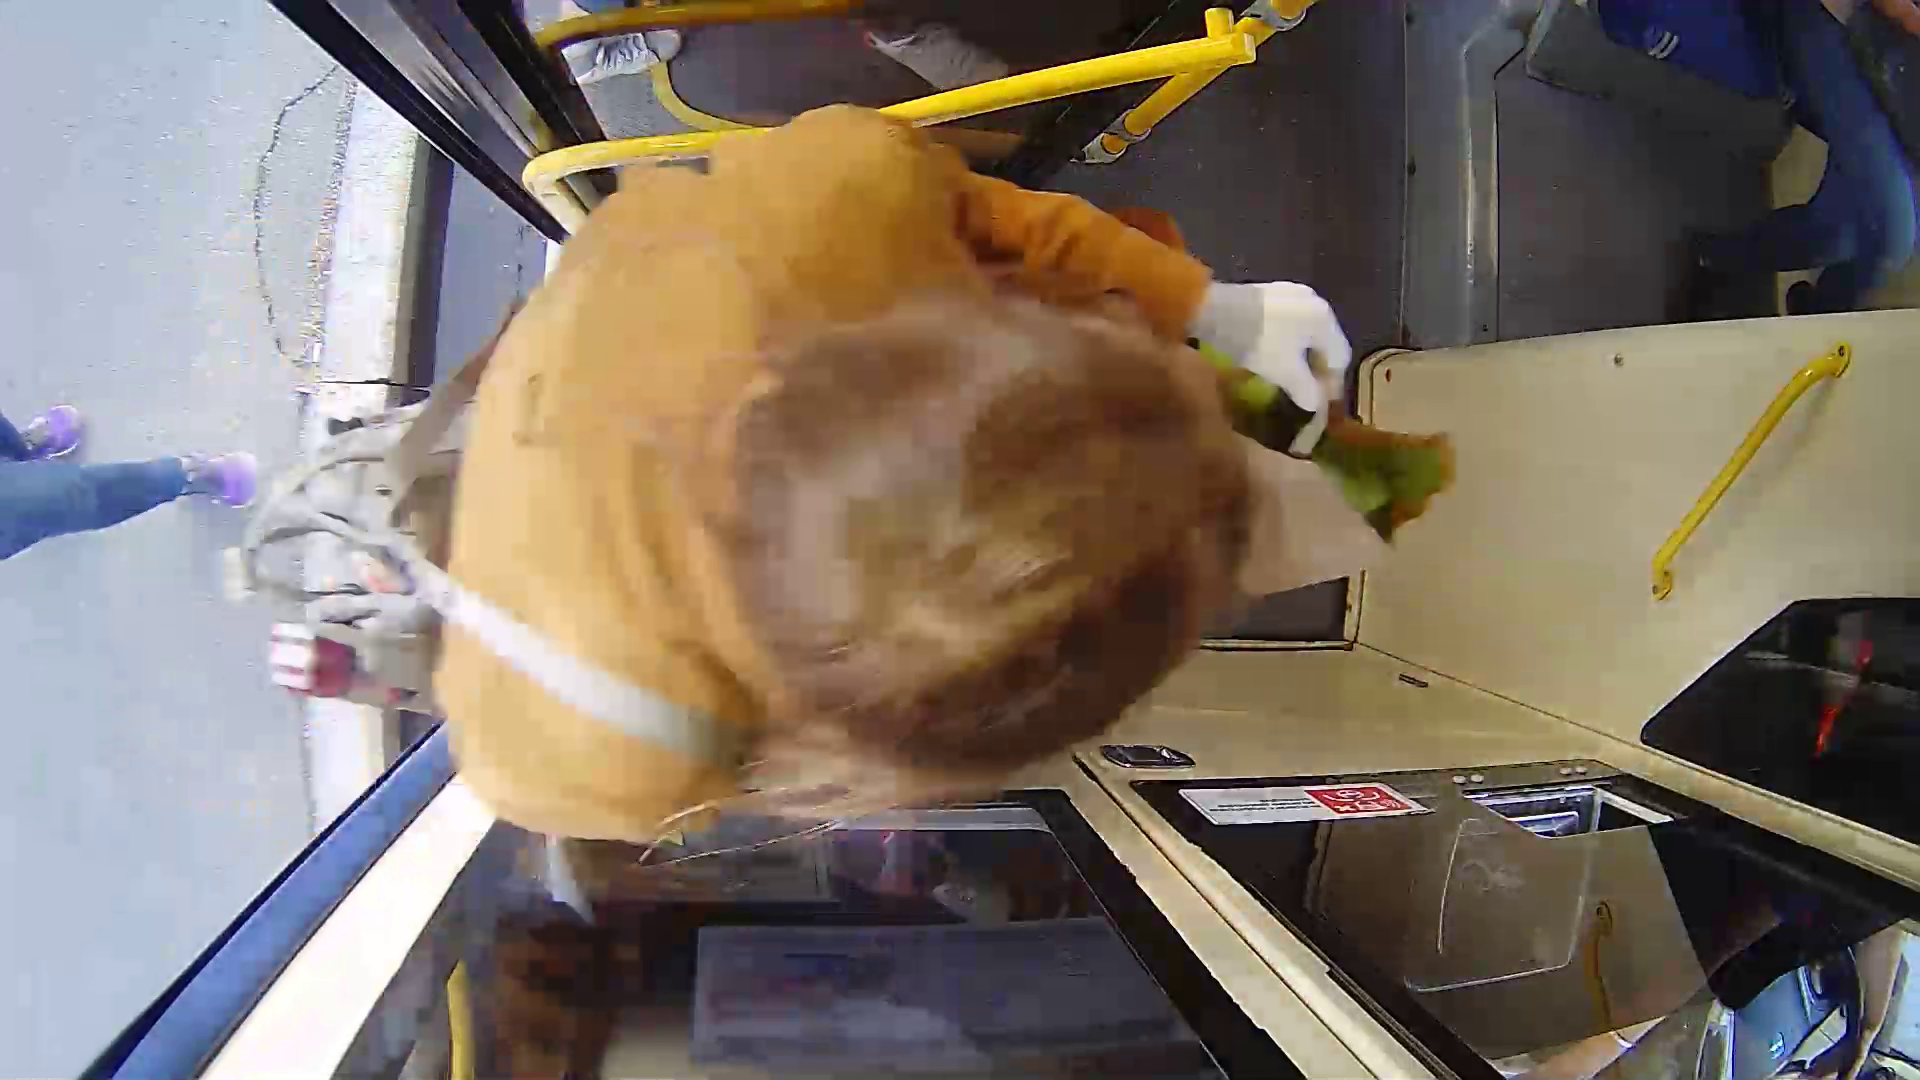person: (318, 142, 1366, 813)
